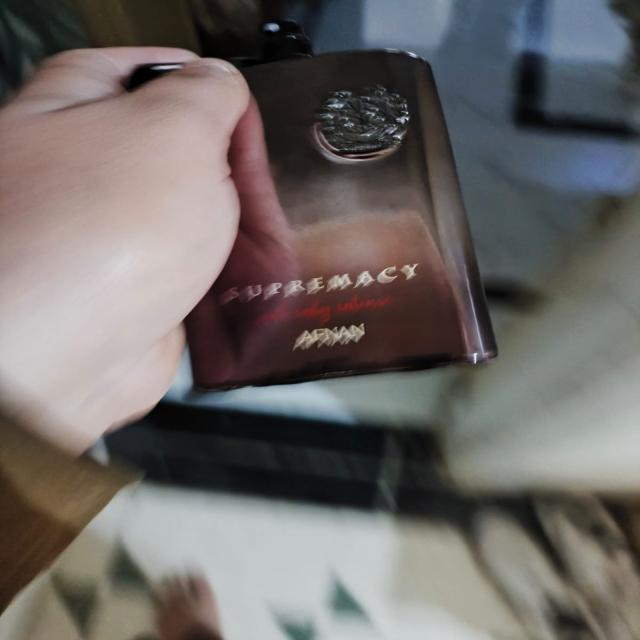Afnan: (144, 20, 501, 394), (254, 17, 315, 63)
